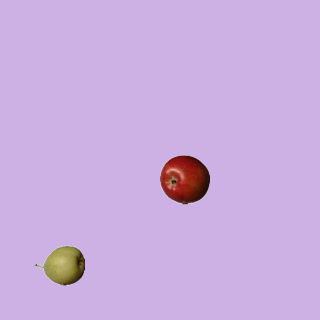Apple Braeburn: (159, 154, 209, 204)
Pear: (34, 240, 84, 290)
